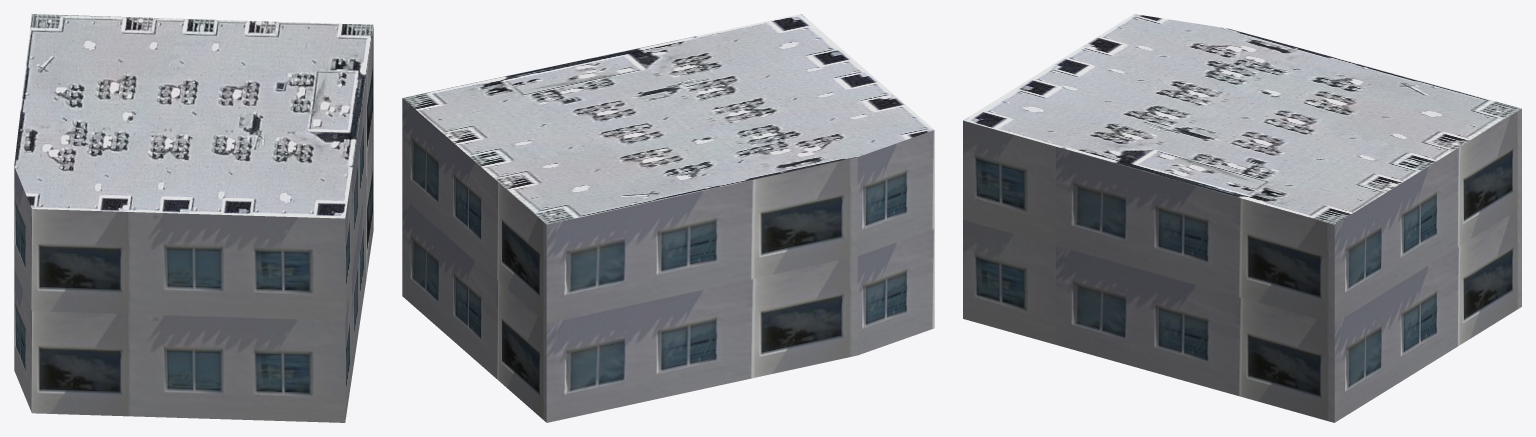
File: ResTex__1938.fbx
3 renders of one model, left to right at view 1: azimuth 30°, elevation 25°; view 2: azimuth 150°, elevation 25°; view 3: azimuth 270°, elevation 25°, orthographic. The views are drawn at different scales.
Parts seen in each view (by area): view 1: CityEngineMaterial_10_m, CityEngineMaterial_8_m; view 2: CityEngineMaterial_10_m, CityEngineMaterial_8_m; view 3: CityEngineMaterial_10_m, CityEngineMaterial_8_m.
Part boxes in pixels (x1,y1,x2,y2): CityEngineMaterial_10_m: (14, 27, 373, 422); CityEngineMaterial_8_m: (14, 14, 373, 218); CityEngineMaterial_10_m: (402, 98, 934, 422); CityEngineMaterial_8_m: (403, 14, 933, 224); CityEngineMaterial_10_m: (963, 109, 1521, 422); CityEngineMaterial_8_m: (963, 14, 1521, 224).
Size of the model in its own units: 13.68 by 6 by 15.33.
Materials: 2 (2 with a texture image).
